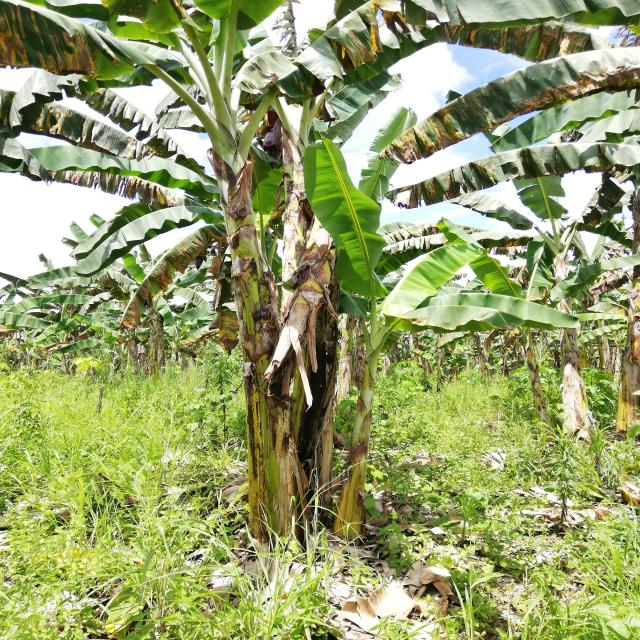Banana-plant: (182, 68, 299, 550), (323, 327, 408, 538)
